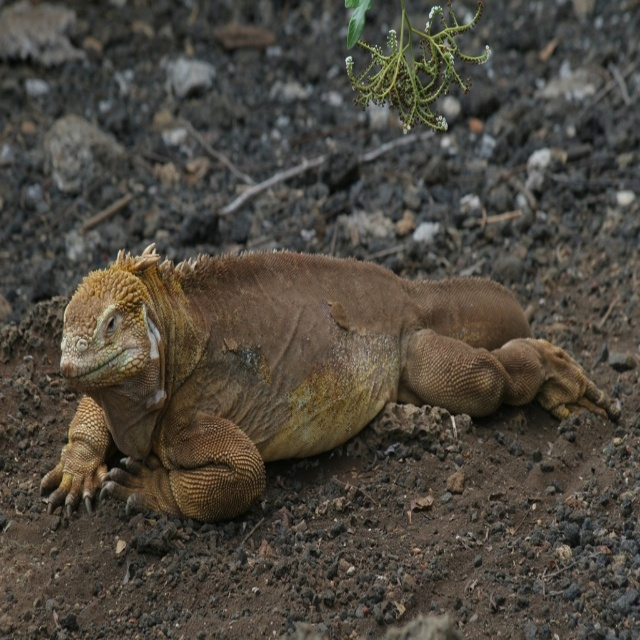Lizard: (32, 234, 624, 545)
